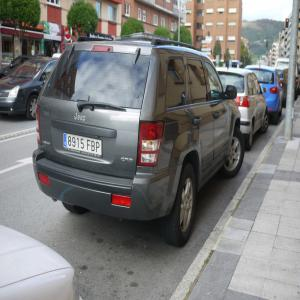Vehicle-registration-plate: (57, 123, 108, 169)
